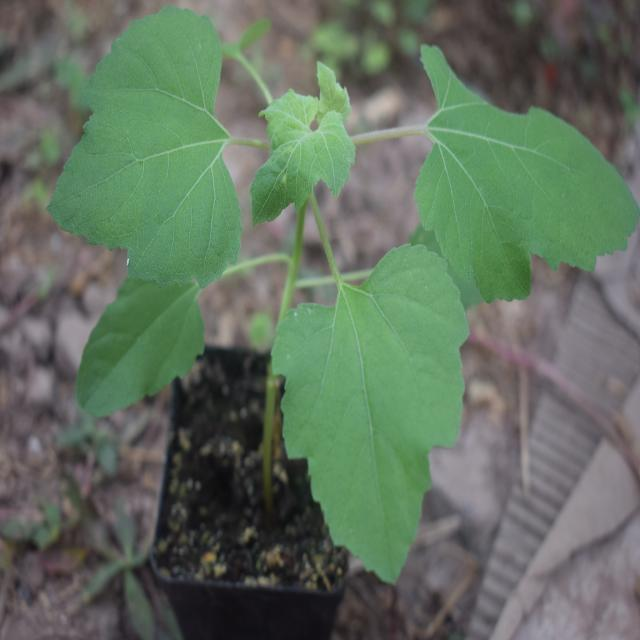cocklebur: (54, 21, 617, 504)
